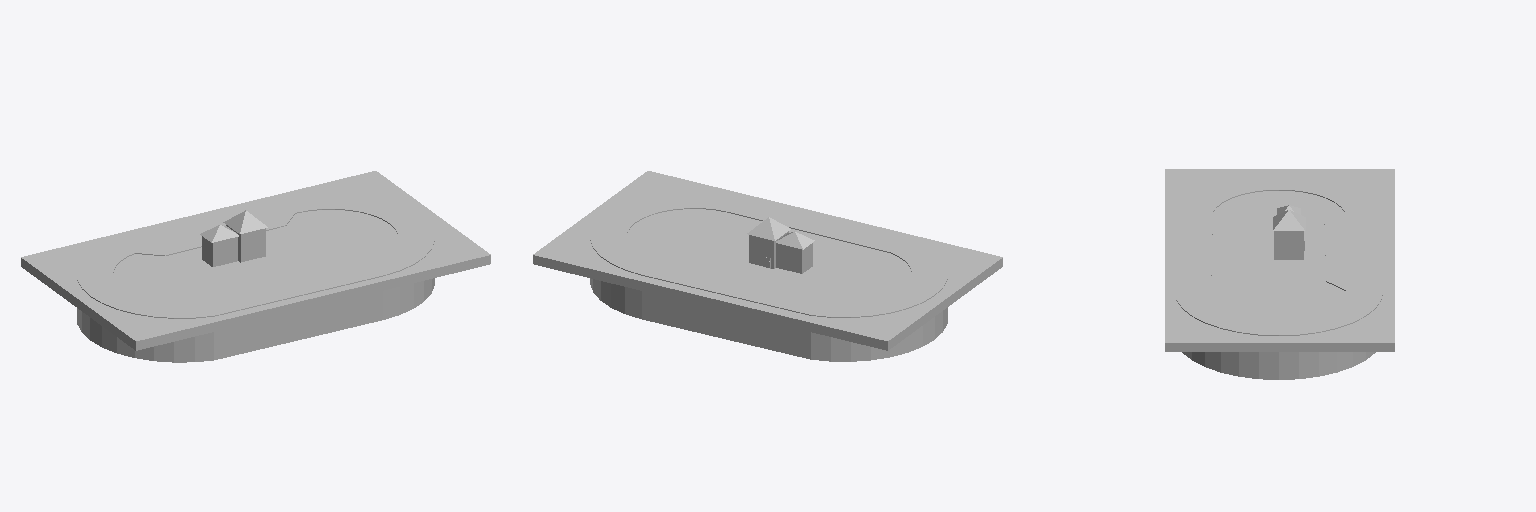
File: racetrack.obj
3 views of the same model, side by side, from view 1: azimuth 30°, elevation 25°; view 2: azimuth 150°, elevation 25°; view 3: azimuth 270°, elevation 25° (orthographic).
Visible parts, largest first — view 1: Cube_Cube.003; view 2: Cube_Cube.003; view 3: Cube_Cube.003.
Boxes of the visible parts, x1,y1,x2,y2 form: Cube_Cube.003: [21, 171, 490, 362]; Cube_Cube.003: [533, 171, 1002, 361]; Cube_Cube.003: [1165, 169, 1394, 379].
Bounding box in the file's own units: 79.02 × 18.62 × 44.4.